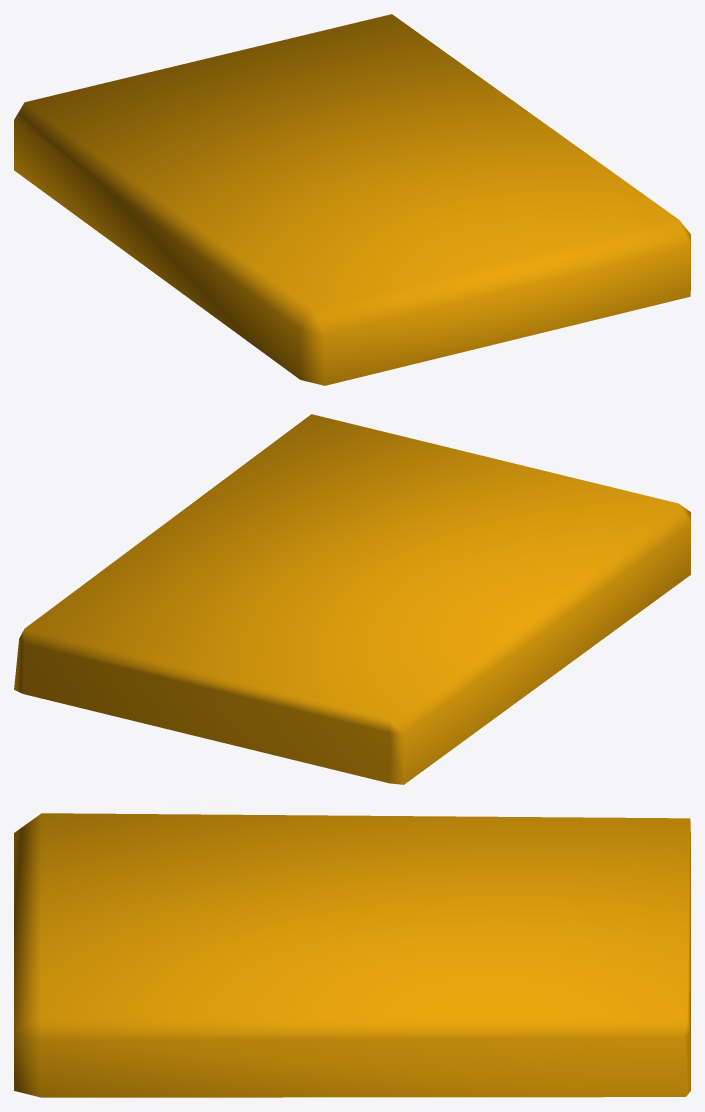
Rendered from Platform_L_7.fbx.
3 views of the same model, one above another, from view 1: azimuth 30°, elevation 25°; view 2: azimuth 150°, elevation 25°; view 3: azimuth 270°, elevation 25° (orthographic). The views are drawn at different scales.
Visible parts, largest first — view 1: Platform_L_7; view 2: Platform_L_7; view 3: Platform_L_7.
Boxes of the visible parts, x1,y1,x2,y2 form: Platform_L_7: (14, 14, 690, 385); Platform_L_7: (14, 414, 690, 784); Platform_L_7: (14, 813, 690, 1097).
Bounding box in the file's own units: 600 × 100 × 800.
